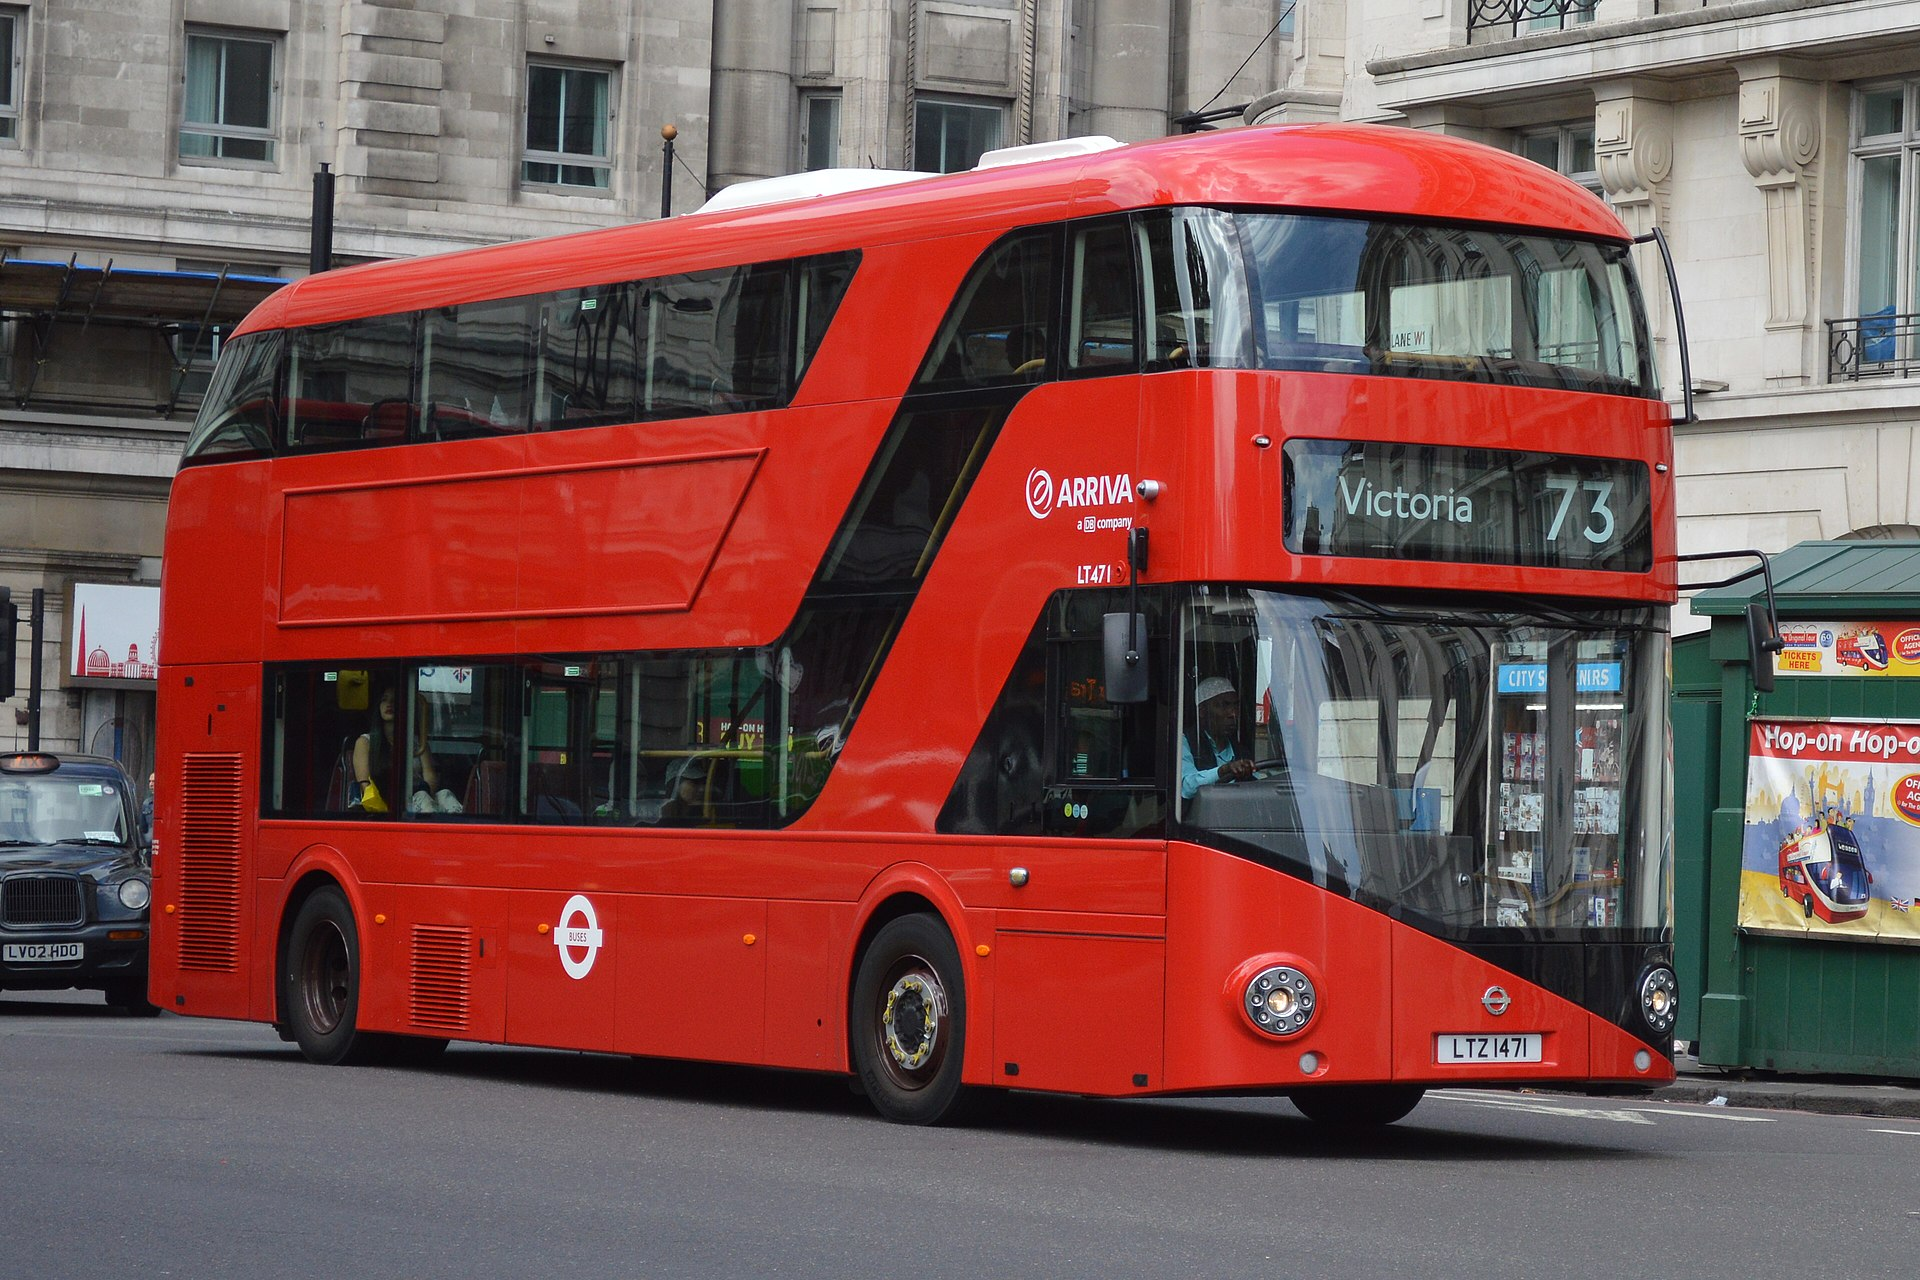red_busess: (147, 120, 1673, 1104)
